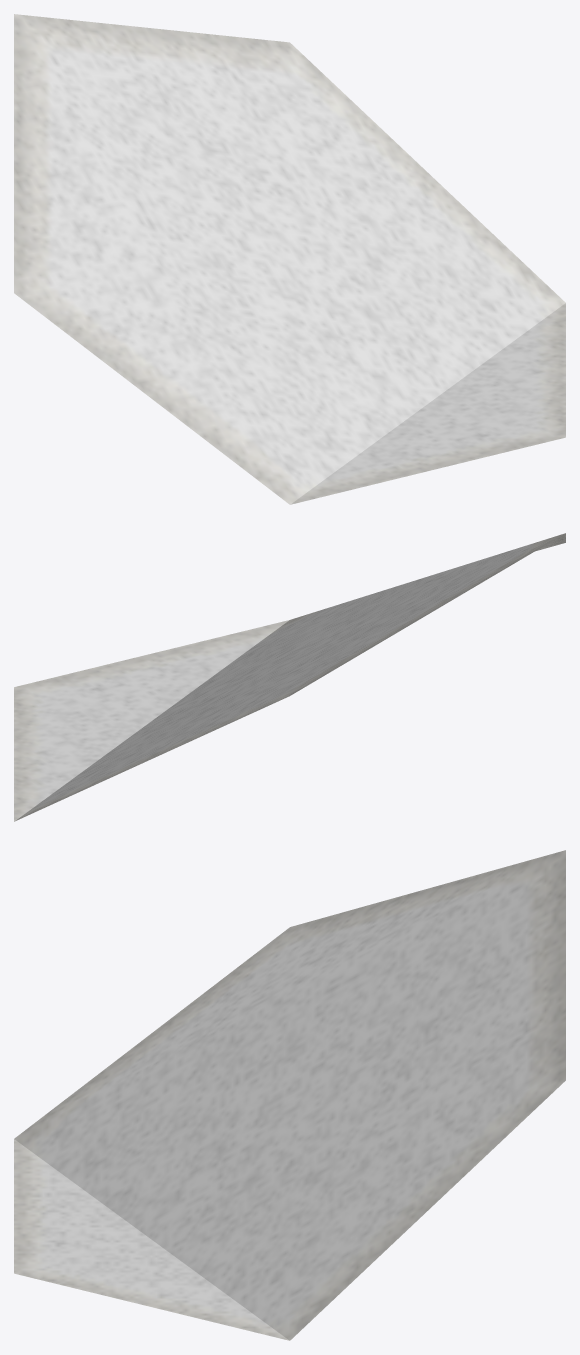
The model's file is HexaTile_PBC_A.FBX.
3 views of the same model, one above another, from view 1: azimuth 30°, elevation 25°; view 2: azimuth 210°, elevation 25°; view 3: azimuth 270°, elevation 25° (orthographic).
Visible parts, largest first — view 1: HexaTile_PBC_A; view 2: HexaTile_PBC_A; view 3: HexaTile_PBC_A.
Part boxes in pixels (x1,y1,x2,y2): HexaTile_PBC_A: [14, 14, 565, 504]; HexaTile_PBC_A: [14, 533, 565, 821]; HexaTile_PBC_A: [14, 850, 565, 1340].
Bounding box in the file's own units: 1 × 0.5 × 0.866.
